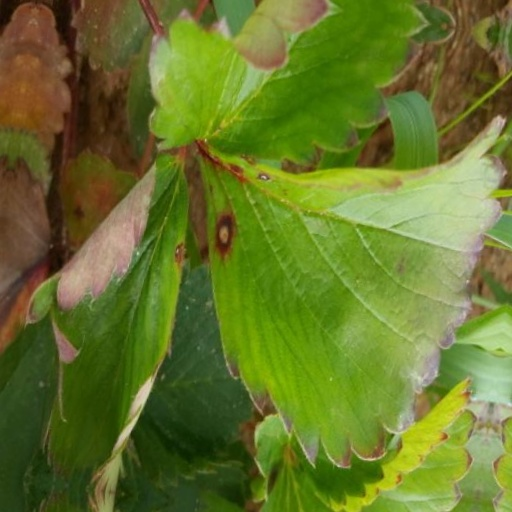Leaf Spot: (172, 55, 494, 435), (37, 0, 188, 349)
